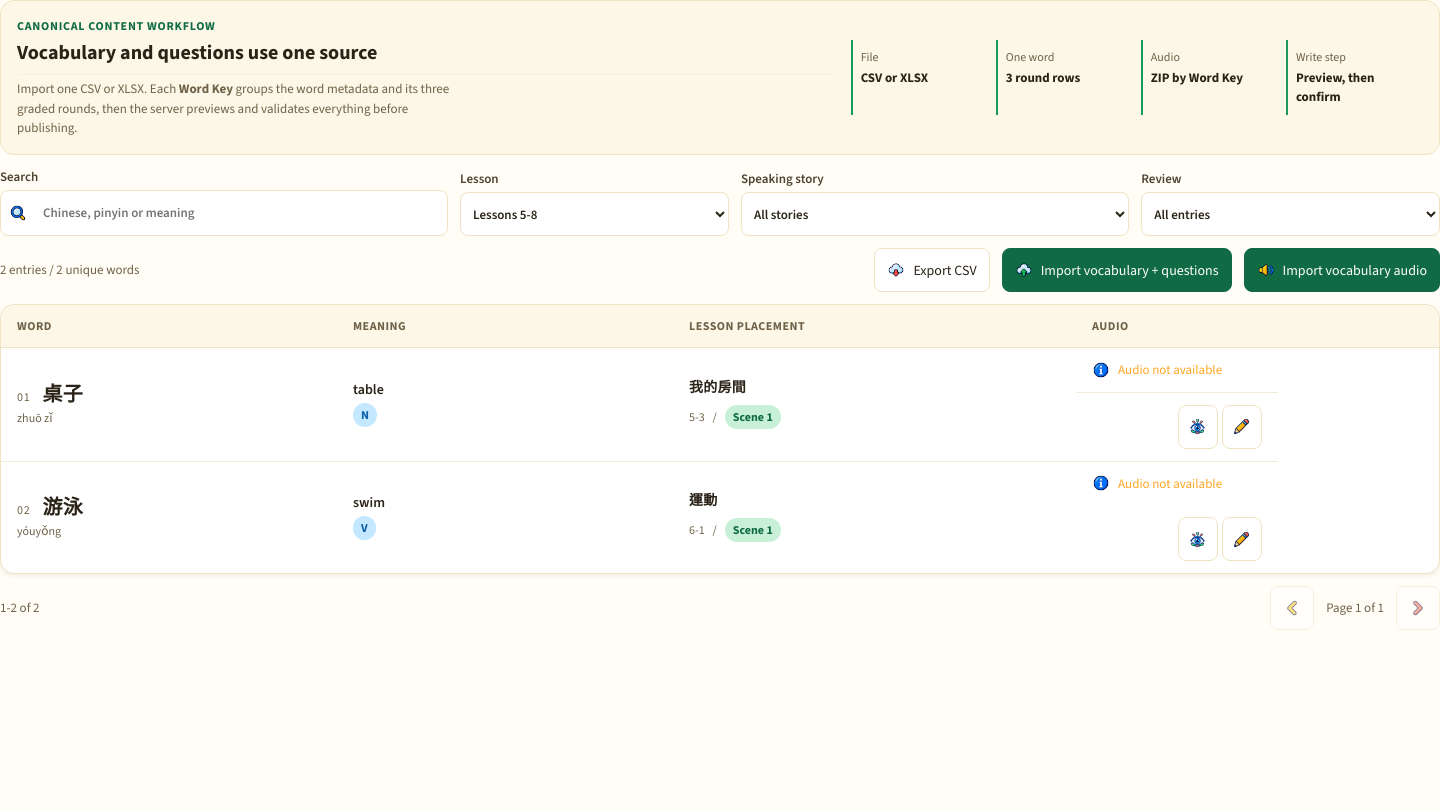
Test: Admin vocabulary page › blocks comma values that would shift vocabulary columns
Click the button named "Edit 桌子" at (1242, 426), box [1222,404,1262,448]
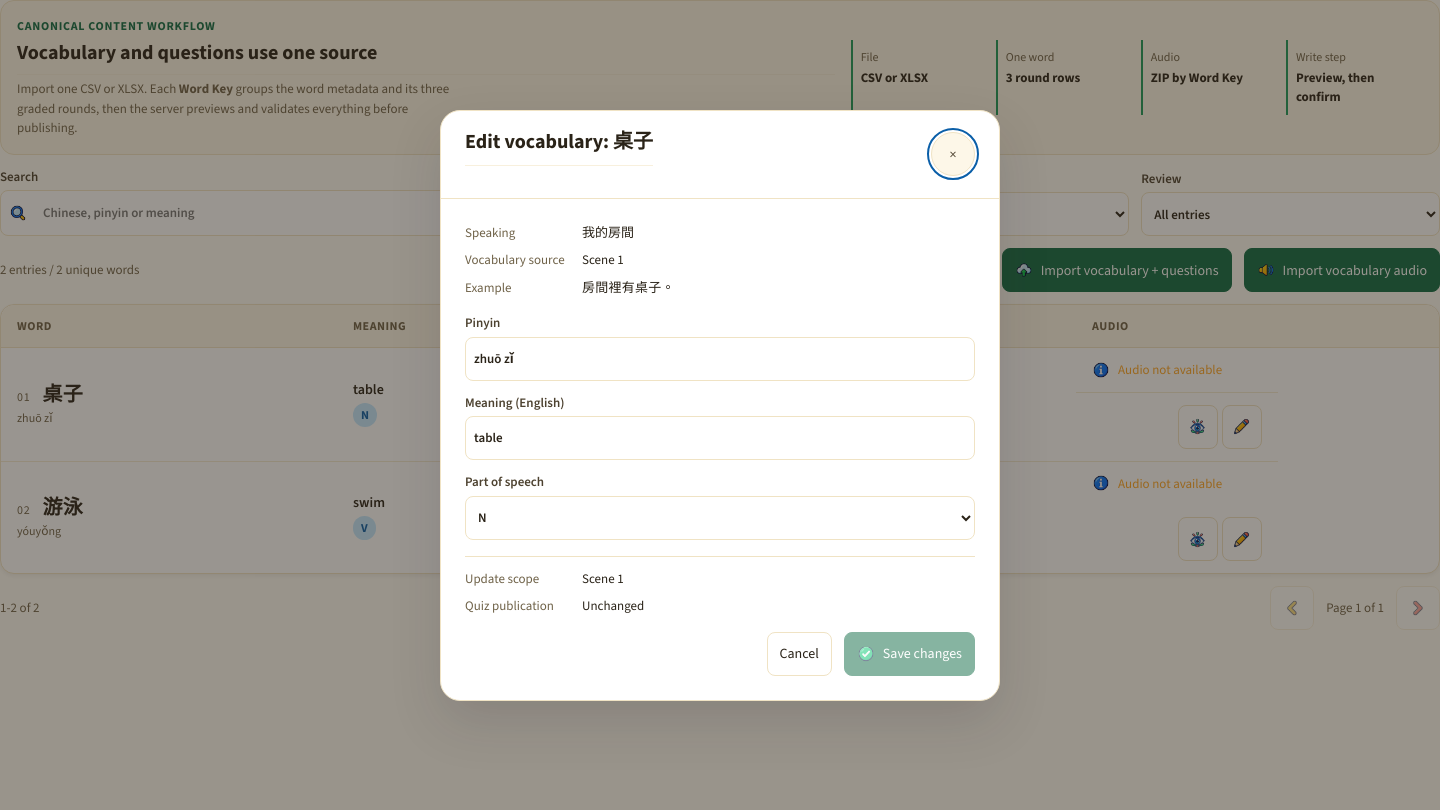
Type ", desk" into the field labelled "Meaning (English)" at (720, 438), box [465,416,975,460]
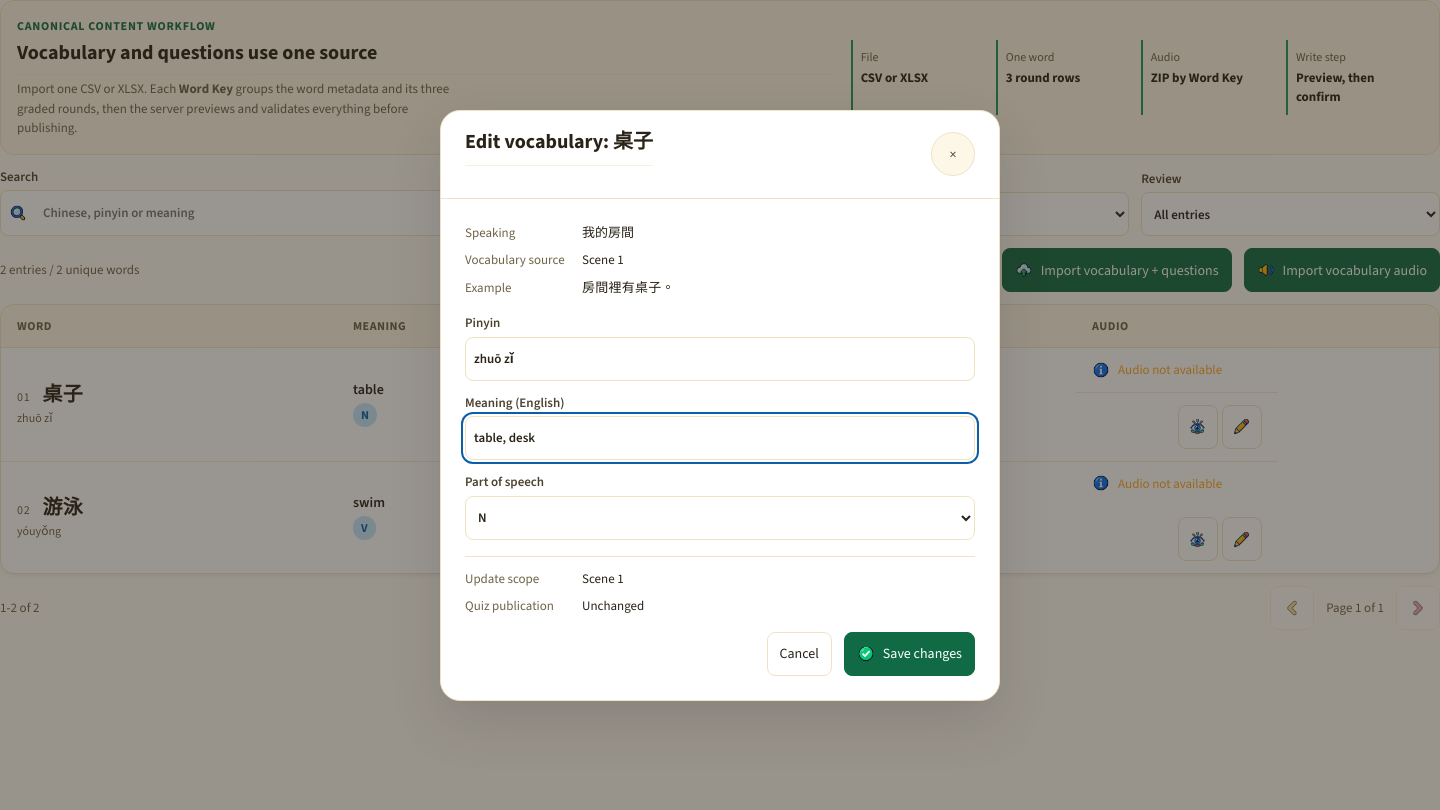
Click the button "Save changes" at (909, 654), box [844,632,975,676]
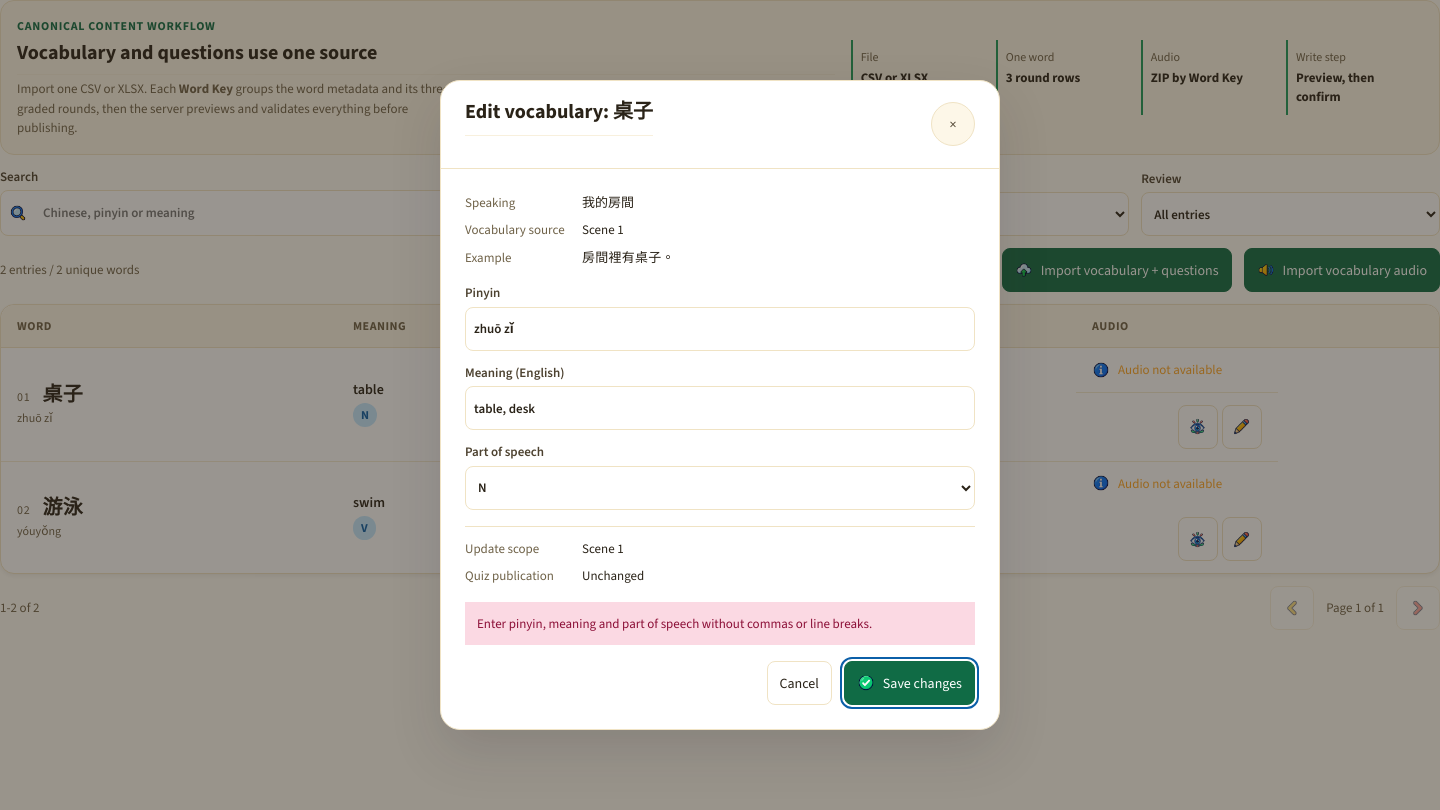
expect the message shows "without commas": met, box [477,615,872,632]
